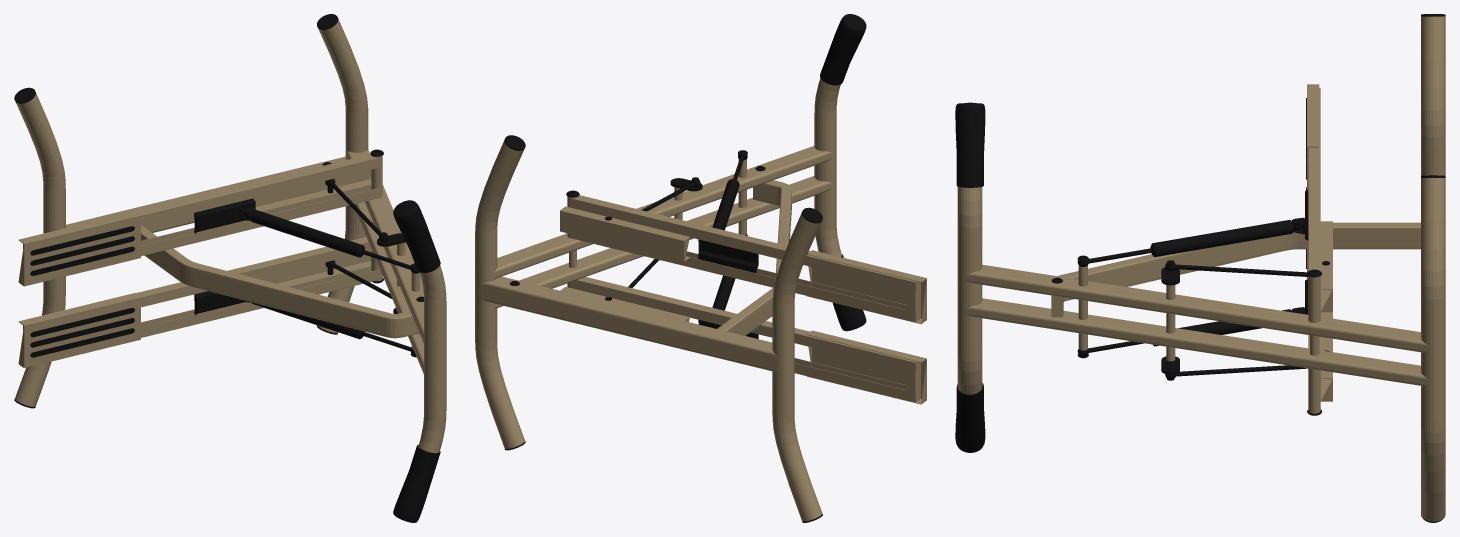
File: STEPPER.obj
The picture shows the model from 3 angles, left to right: view 1: azimuth 30°, elevation 25°; view 2: azimuth 150°, elevation 25°; view 3: azimuth 270°, elevation 25°; orthographic projection. The views are drawn at different scales.
Visible parts, largest first — view 1: Mesh.002_frame_back, Mesh.005_frame_fron, Mesh.011_arm_r, Mesh.010_arm_l, Mesh.015_stp_r, Mesh.014_stp_l, Mesh.006_handles, Mesh.008_shocks, Mesh.007_shoes, Mesh.013_f_pad_r, Mesh.012_f_pad_l, Mesh.009_springs (+1 smaller); view 2: Mesh.005_frame_fron, Mesh.002_frame_back, Mesh.011_arm_r, Mesh.010_arm_l, Mesh.014_stp_l, Mesh.015_stp_r, Mesh.006_handles, Mesh.007_shoes, Mesh.008_shocks, Mesh.009_springs, Mesh.004_caps; view 3: Mesh.005_frame_fron, Mesh.002_frame_back, Mesh.006_handles, Mesh.008_shocks, Mesh.011_arm_r, Mesh.009_springs, Mesh.010_arm_l, Mesh.015_stp_r, Mesh.007_shoes.
Boxes of the visible parts, x1,y1,x2,y2 form: Mesh.002_frame_back: (15, 93, 418, 406); Mesh.005_frame_fron: (317, 19, 446, 453); Mesh.011_arm_r: (23, 154, 382, 256); Mesh.010_arm_l: (23, 237, 382, 337); Mesh.015_stp_r: (18, 211, 140, 286); Mesh.014_stp_l: (18, 293, 140, 367); Mesh.006_handles: (393, 200, 440, 522); Mesh.008_shocks: (244, 210, 419, 355); Mesh.007_shoes: (194, 198, 255, 316); Mesh.013_f_pad_r: (30, 226, 134, 275); Mesh.012_f_pad_l: (30, 308, 134, 357); Mesh.009_springs: (325, 179, 405, 313); Mesh.005_frame_fron: (475, 78, 841, 448); Mesh.002_frame_back: (480, 180, 822, 521); Mesh.011_arm_r: (560, 195, 920, 322); Mesh.010_arm_l: (560, 277, 920, 402); Mesh.014_stp_l: (806, 330, 926, 404); Mesh.015_stp_r: (807, 250, 926, 324); Mesh.006_handles: (820, 14, 866, 331); Mesh.007_shoes: (698, 239, 758, 338); Mesh.008_shocks: (712, 154, 747, 310); Mesh.009_springs: (605, 177, 702, 300); Mesh.004_caps: (504, 135, 822, 522); Mesh.005_frame_fron: (957, 177, 1445, 521); Mesh.002_frame_back: (1051, 16, 1445, 317); Mesh.006_handles: (955, 102, 985, 452); Mesh.008_shocks: (1077, 220, 1302, 356); Mesh.011_arm_r: (1308, 88, 1332, 322); Mesh.009_springs: (1161, 260, 1329, 380); Mesh.010_arm_l: (1308, 312, 1332, 413); Mesh.015_stp_r: (1307, 84, 1319, 189); Mesh.007_shoes: (1291, 190, 1308, 314).
Bounding box in the file's own units: 41.04 × 31.2 × 39.77.
